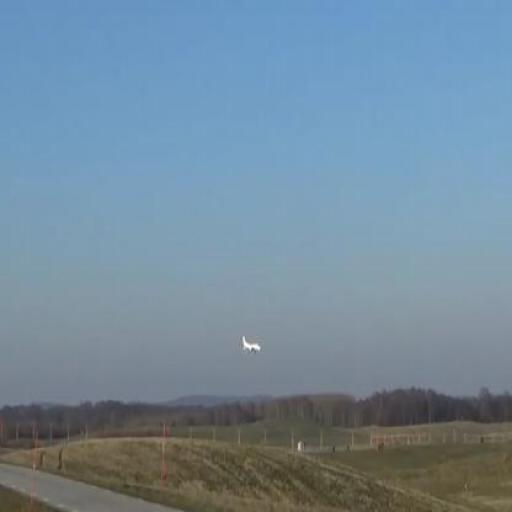aircraft: (242, 334, 262, 352)
